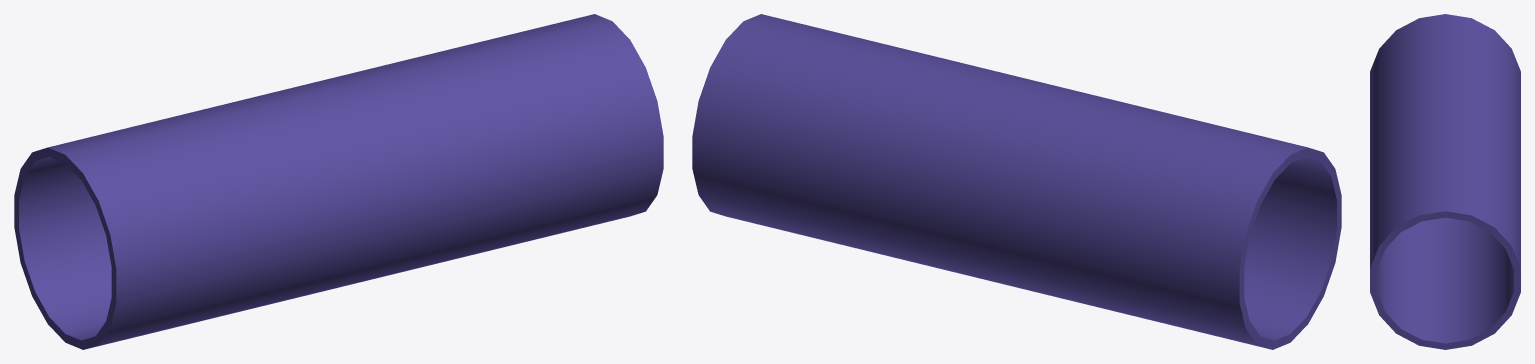
Rendered from Tunnel Part.FBX.
The picture shows the model from 3 angles, left to right: view 1: azimuth 30°, elevation 25°; view 2: azimuth 150°, elevation 25°; view 3: azimuth 270°, elevation 25°; orthographic projection. The views are drawn at different scales.
Visible parts, largest first — view 1: Tunnel Cylinder; view 2: Tunnel Cylinder; view 3: Tunnel Cylinder.
Part boxes in pixels (box(x1,y1,x2,y2)): Tunnel Cylinder: box(14, 14, 663, 349); Tunnel Cylinder: box(692, 14, 1341, 349); Tunnel Cylinder: box(1370, 14, 1520, 349).
Size of the model in its own units: 201 by 65.95 by 64.95.
